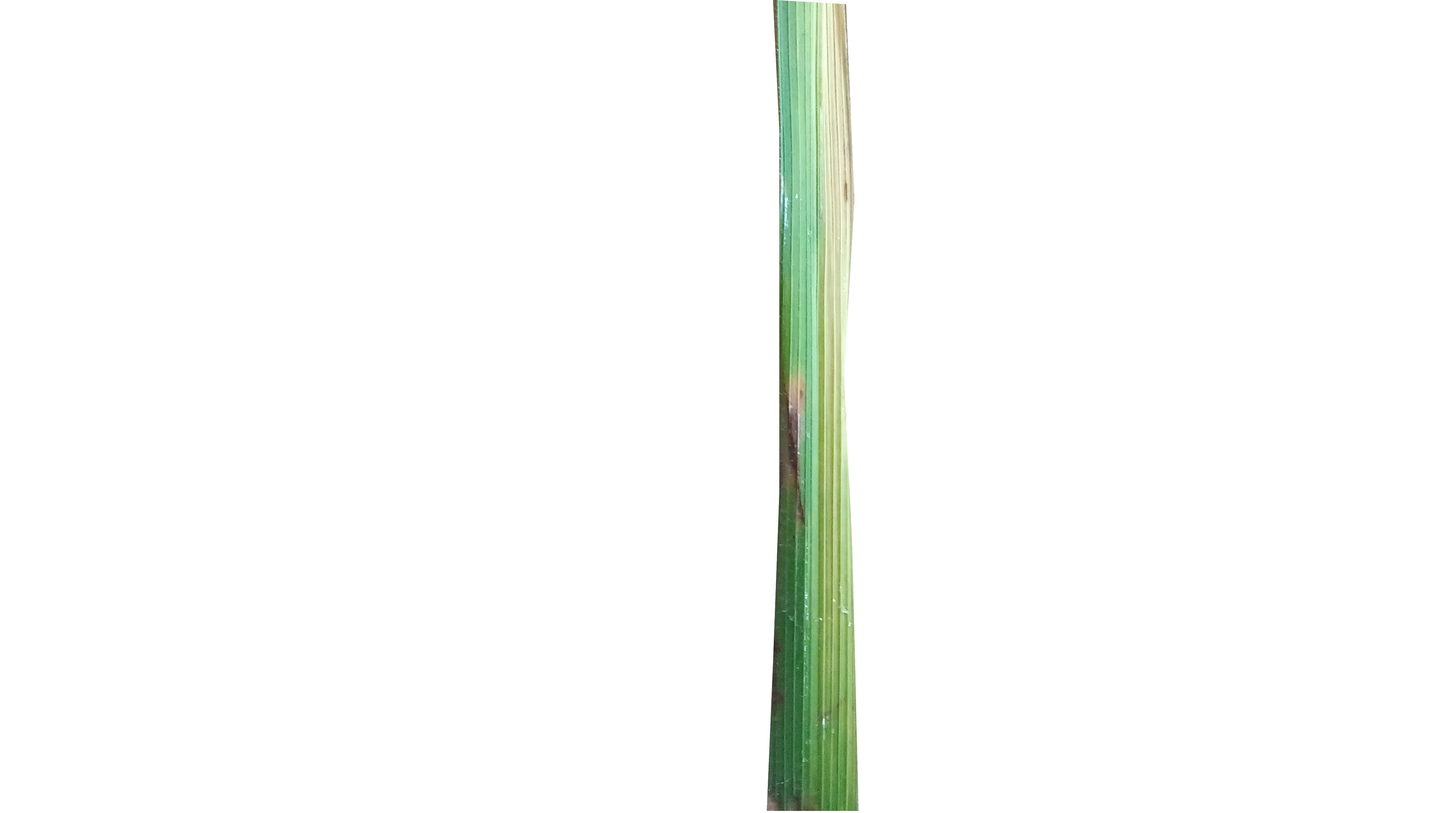Rice blast: (782, 360, 820, 523)
